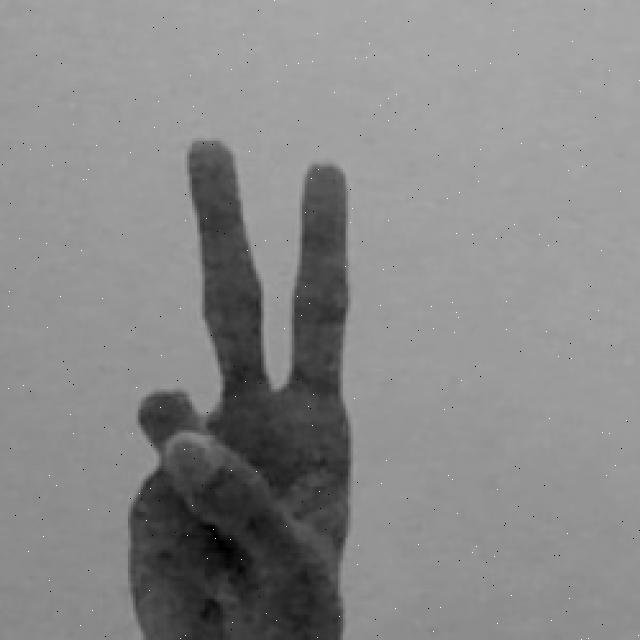V: (118, 133, 364, 640)
